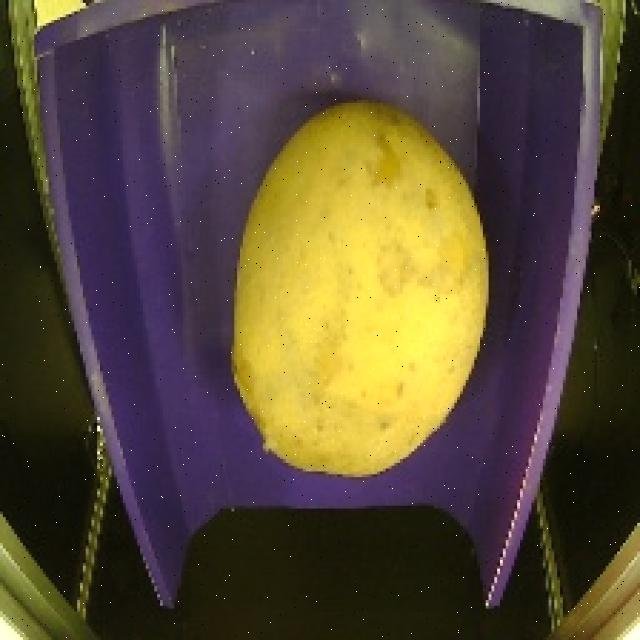full_potato: (210, 82, 509, 492)
